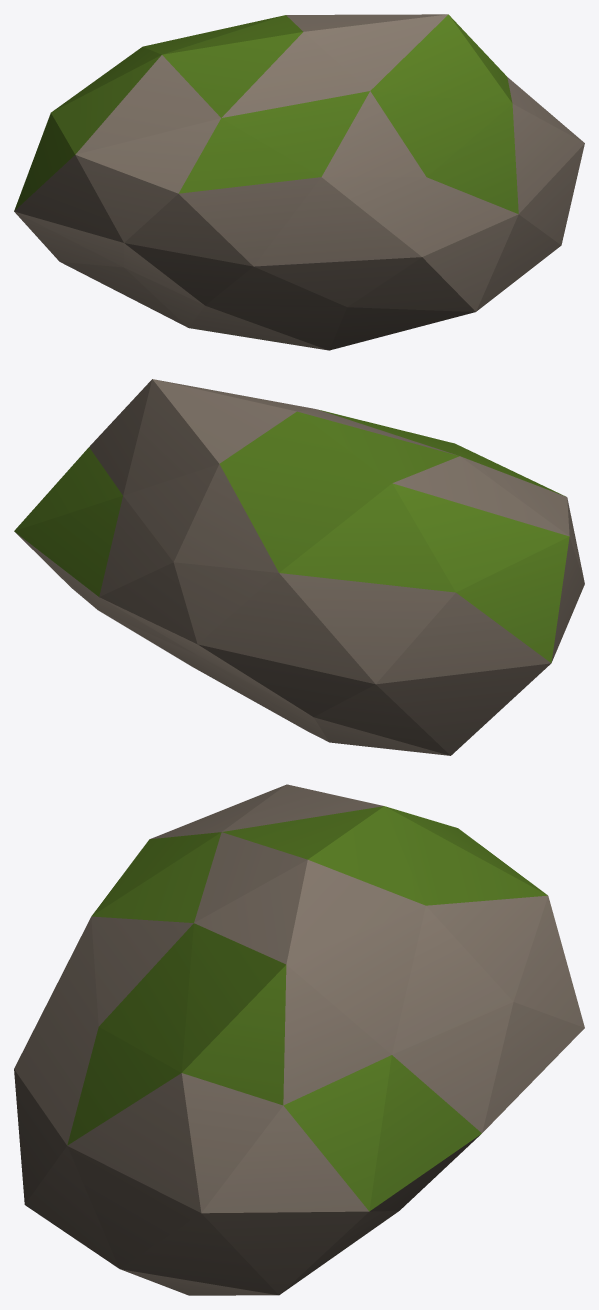
File: rock_02.fbx
The picture shows the model from 3 angles, top to bottom: view 1: azimuth 30°, elevation 25°; view 2: azimuth 150°, elevation 25°; view 3: azimuth 270°, elevation 25°; orthographic projection. The views are drawn at different scales.
Parts seen in each view (by area): view 1: rock_02_LOD0; view 2: rock_02_LOD0; view 3: rock_02_LOD0.
Part boxes in pixels (bbox=[...]): rock_02_LOD0: bbox=[14, 14, 584, 350]; rock_02_LOD0: bbox=[14, 379, 584, 755]; rock_02_LOD0: bbox=[14, 784, 584, 1295].
Size of what is drawn, in the model's own units: 1.95 by 1.08 by 1.41.
Materials: 1 (1 with a texture image).
